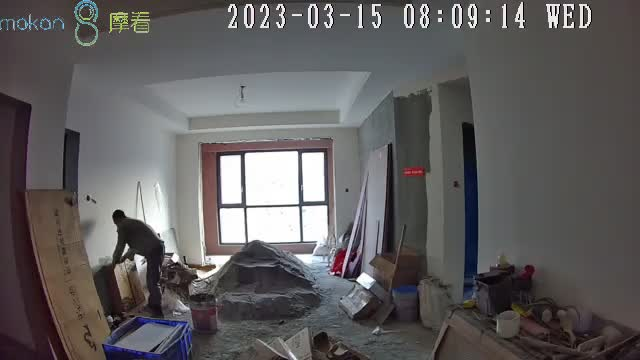people: (112, 210, 165, 318)
window: (217, 151, 330, 244)
